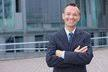Persons: (57, 2, 85, 30)
